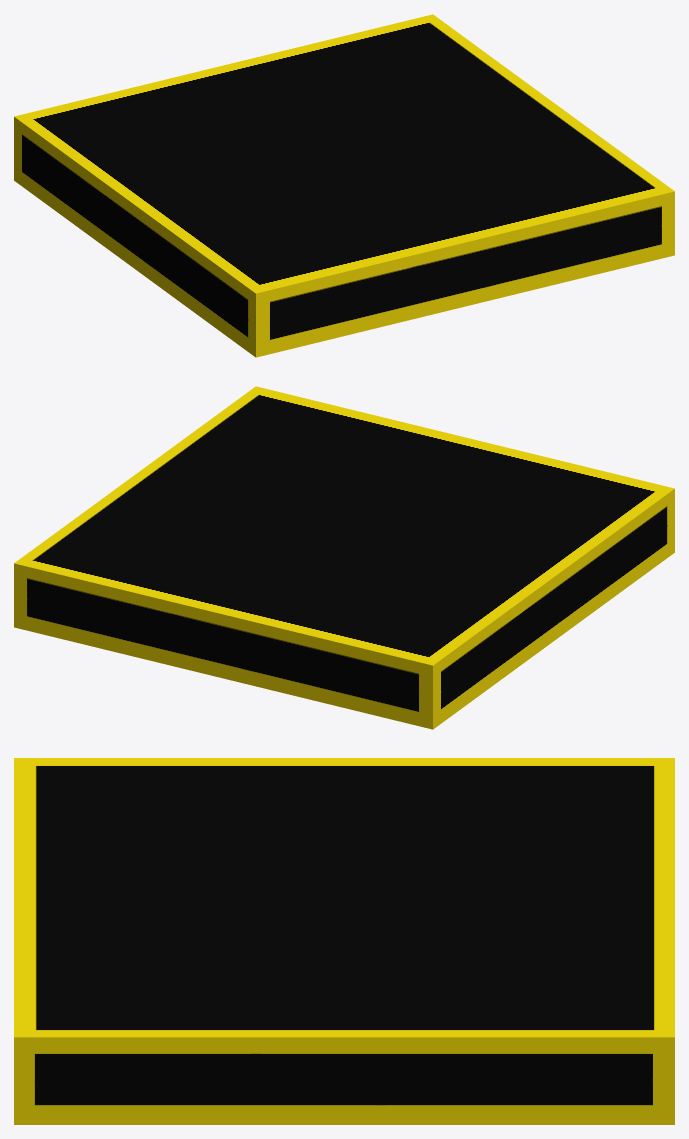
File: Square-platform.fbx
The picture shows the model from 3 angles, top to bottom: view 1: azimuth 30°, elevation 25°; view 2: azimuth 150°, elevation 25°; view 3: azimuth 270°, elevation 25°; orthographic projection. The views are drawn at different scales.
Parts seen in each view (by area): view 1: Cube; view 2: Cube; view 3: Cube.
Part boxes in pixels (box(x1,y1,x2,y2)): Cube: box(14, 14, 674, 357); Cube: box(14, 386, 674, 729); Cube: box(14, 758, 674, 1124).
Bounding box in the file's own units: 360 × 52.55 × 360.
